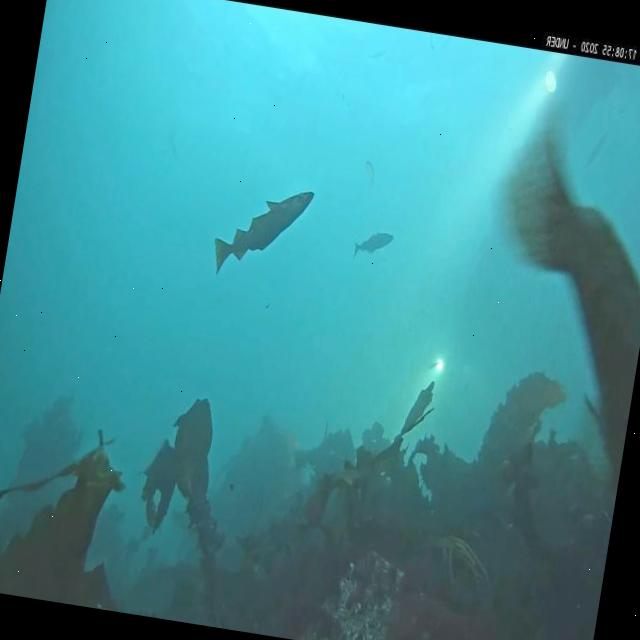fish: (455, 99, 640, 480), (210, 175, 316, 288), (352, 225, 396, 266), (585, 132, 608, 170), (362, 160, 378, 190)
